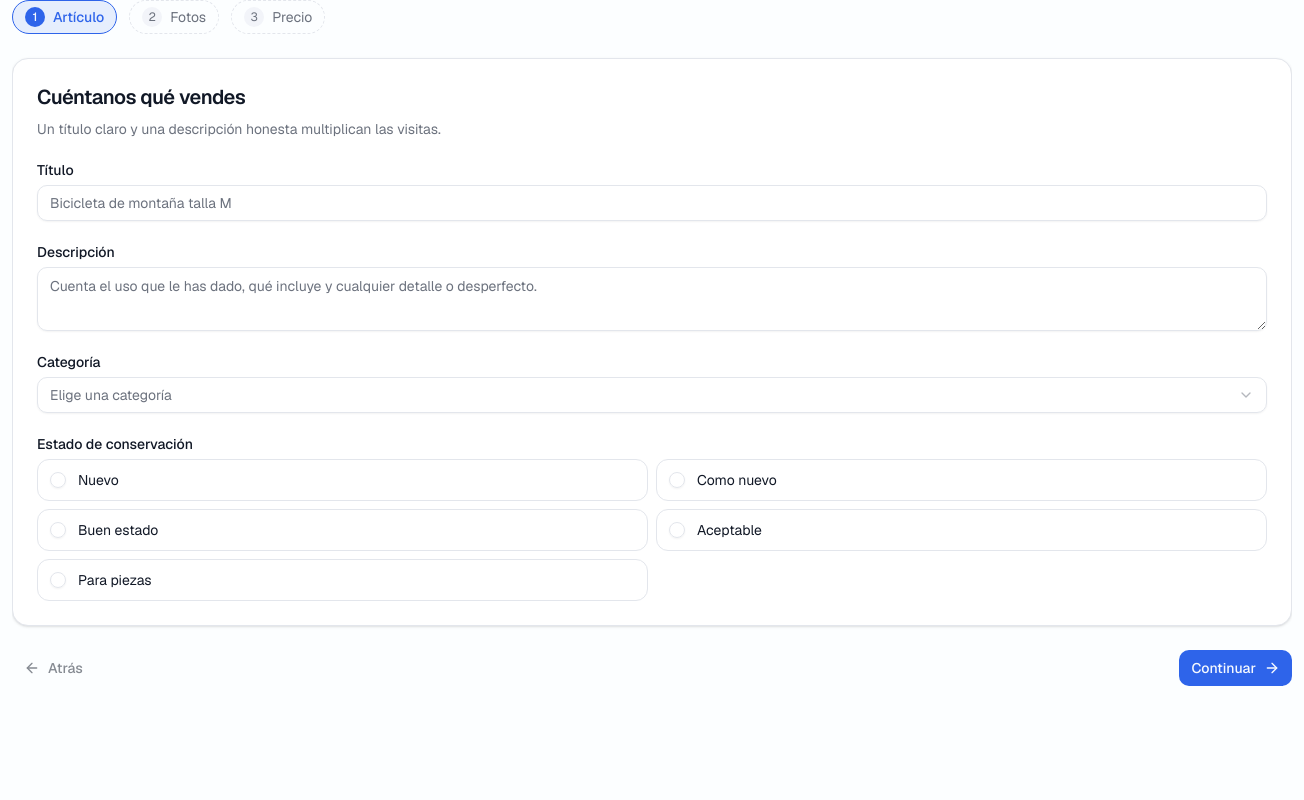
Test: Paso a paso › avanza a las fotos cuando el articulo es valido
This screenshot has width=1304, height=800.
Type "Bicicleta de montaña" into the field labelled "Título".
click(652, 203); type("Bicicleta de montaña")  # box [37,185,1267,221]
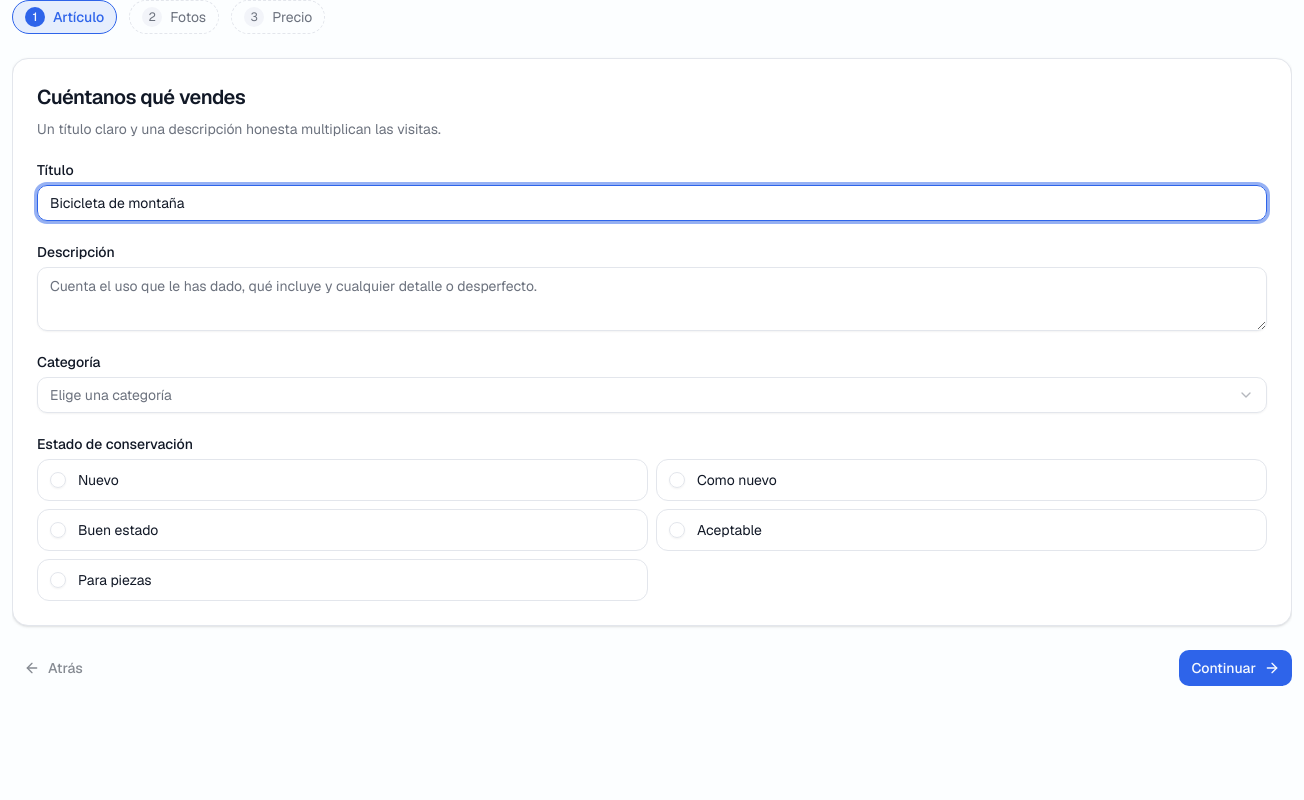
Type "Bicicleta revisada en taller con ruedas nuevas y frenos de disco." into the text box labelled "Descripción".
click(652, 299); type("Bicicleta revisada en taller con ruedas nuevas y frenos de disco.")  # box [37,267,1267,331]
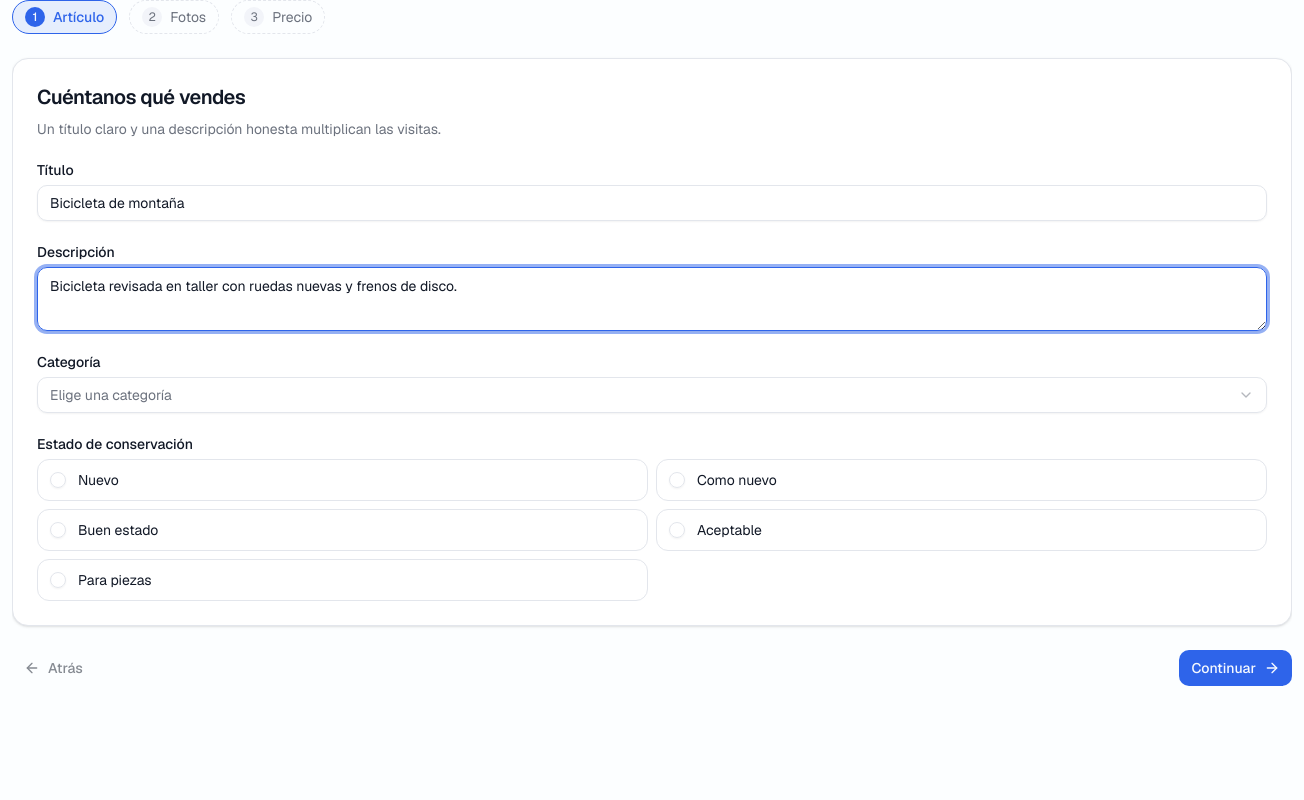
Click the dropdown labelled "Elige una categoría".
click(111, 395)  # box [37,377,1267,413]
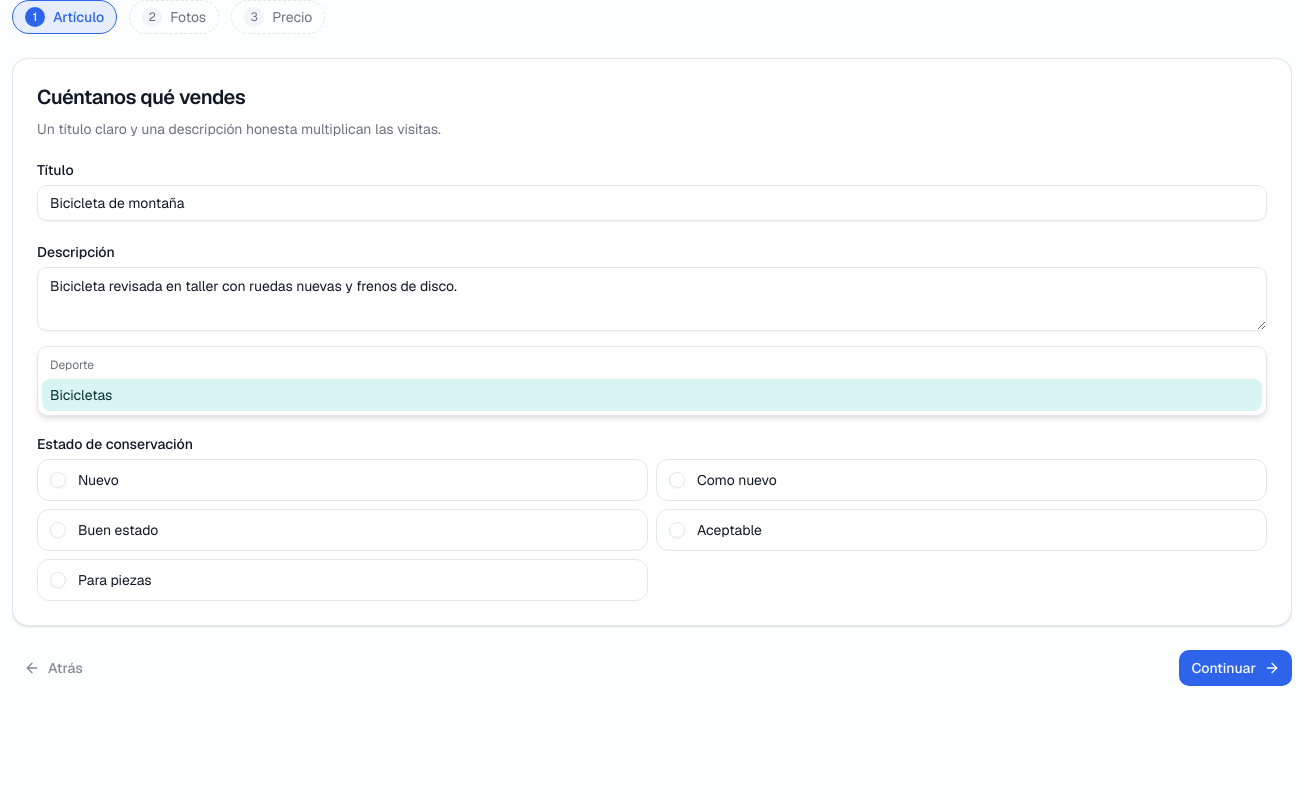
Click the option "Bicicletas".
click(81, 395)  # box [42,379,1262,411]
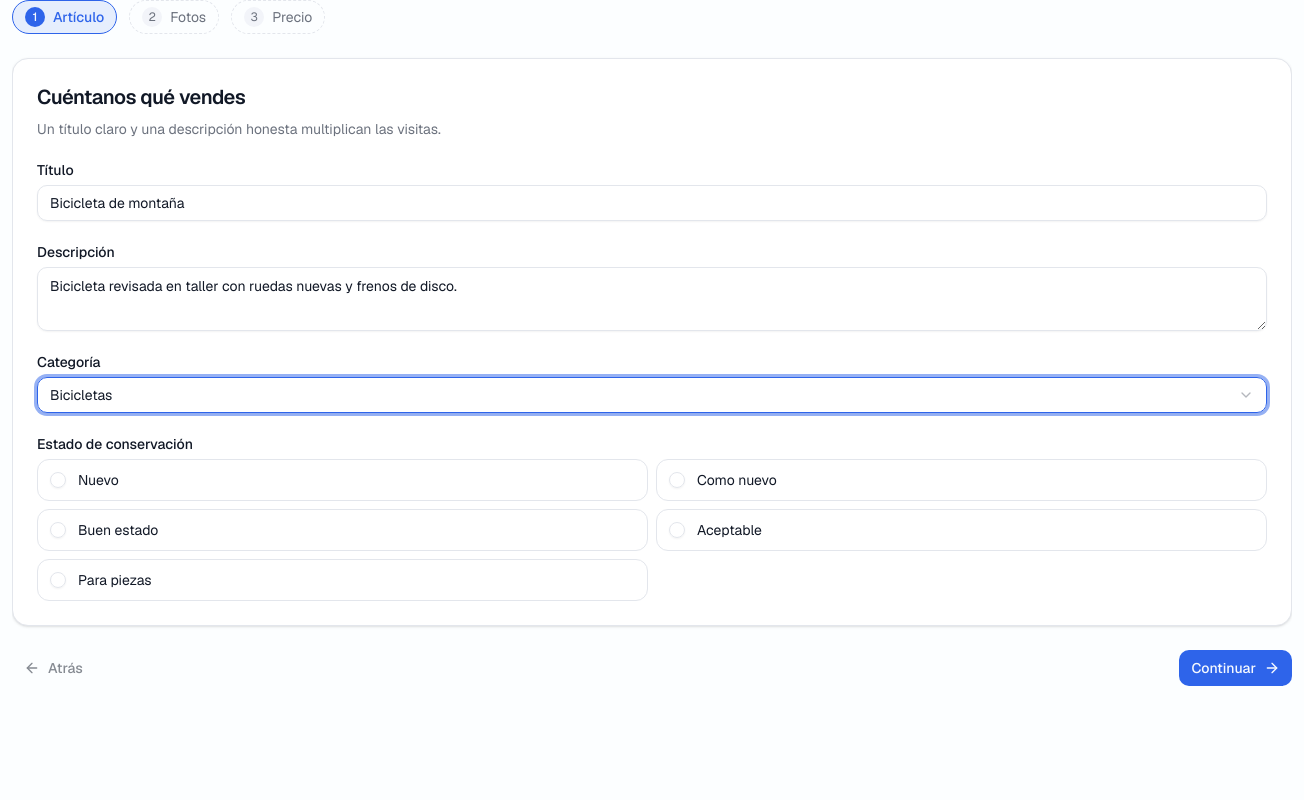
Click the radio button named "buen estado" next to "Buen estado".
click(58, 530)  # box [50,522,66,538]
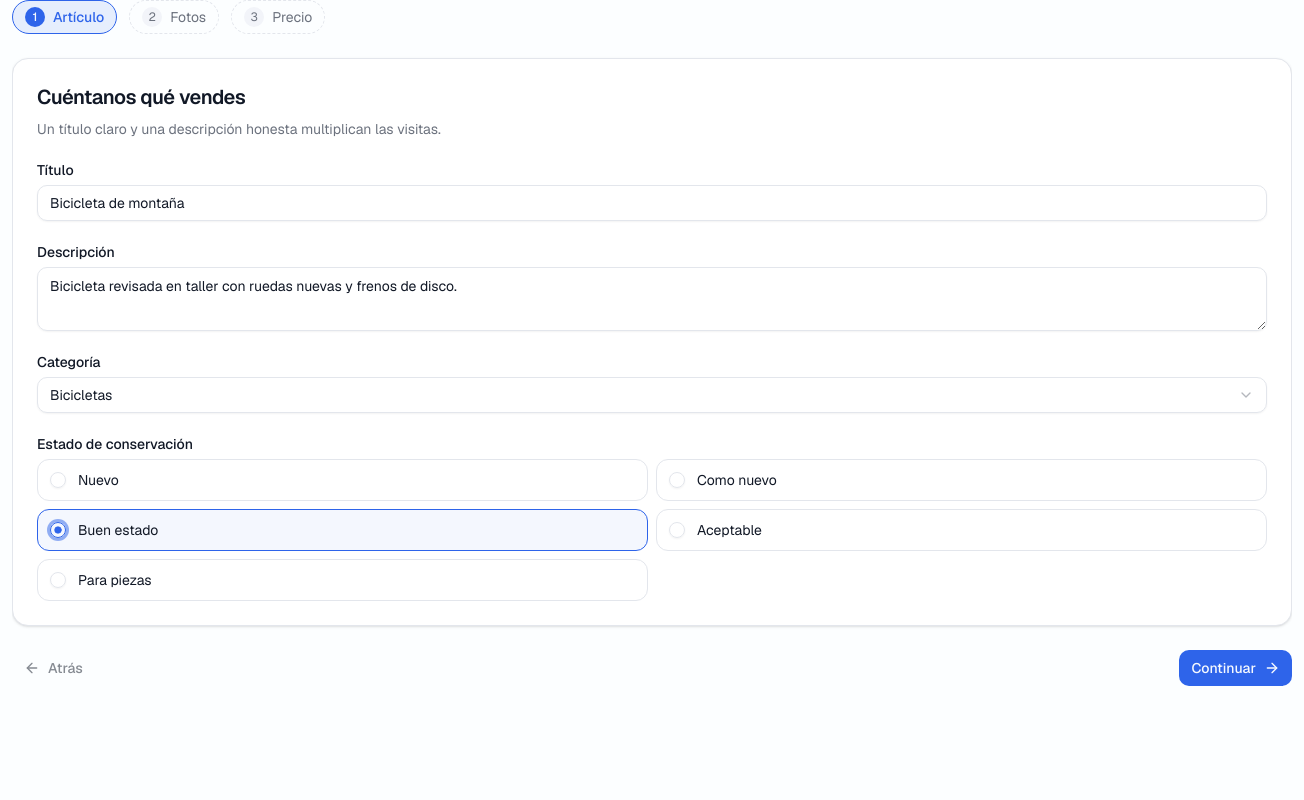
Click the button "Continuar".
click(1236, 668)  # box [1179,650,1292,686]
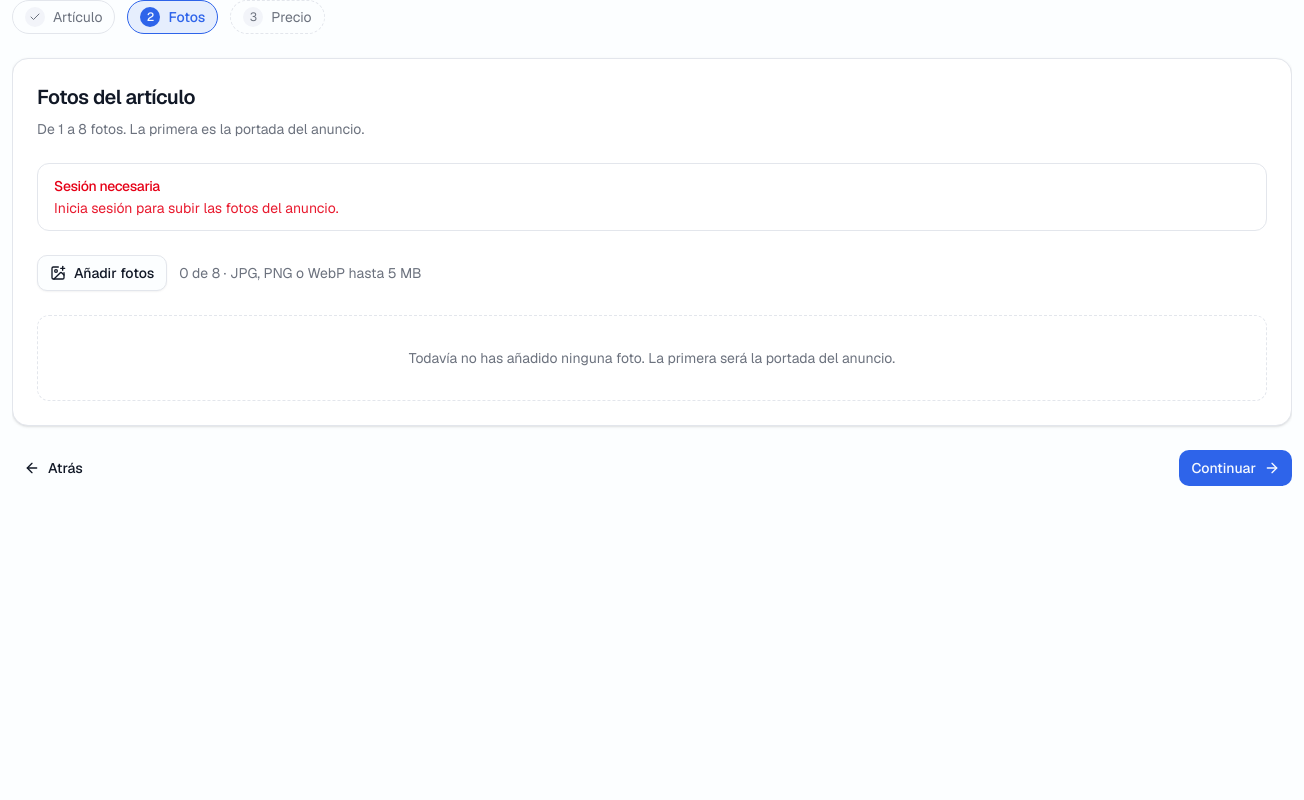
Check: the list item "2 Fotos" is shown, box [128,0,218,34]
Check: the heading "Fotos del artículo" is shown, box [37,84,195,110]
